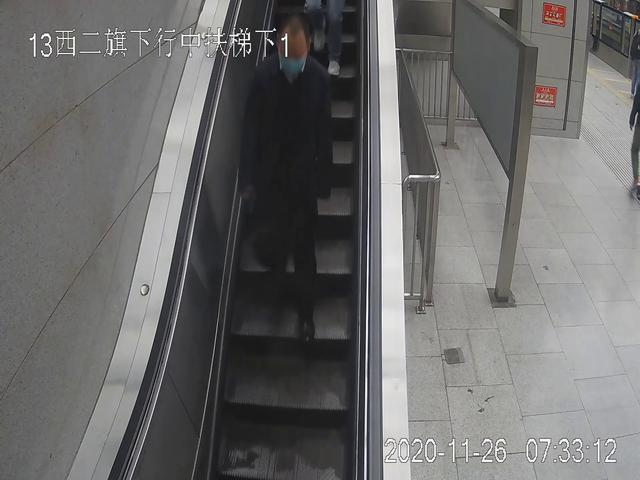person: (244, 14, 332, 344)
